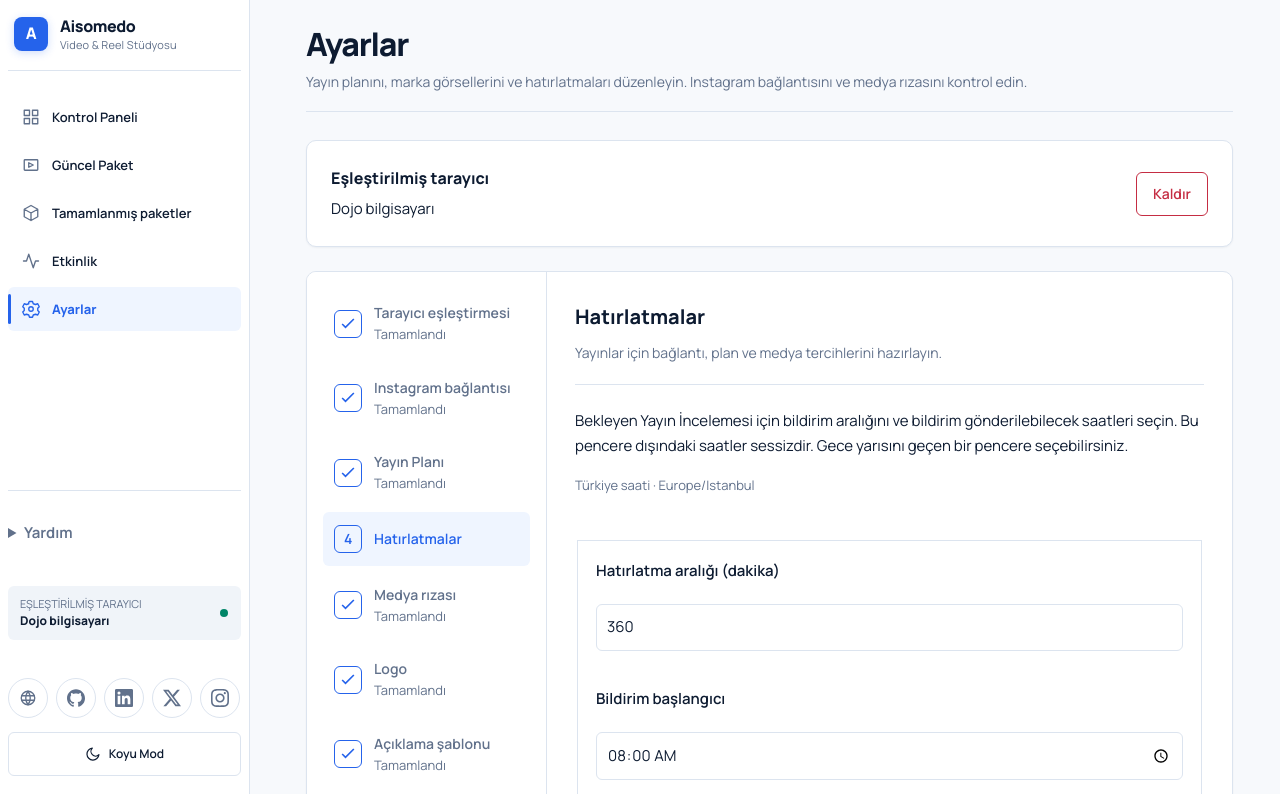
Scenario: replaces settings panels with the embedded setup widget
The image size is (1280, 794).
Expected: the heading "Ayarlar" is shown, [306,22,408,66]
Click the button "Medya rızası Tamamlandı". click: (426,605)
box: [323,570,530,640]
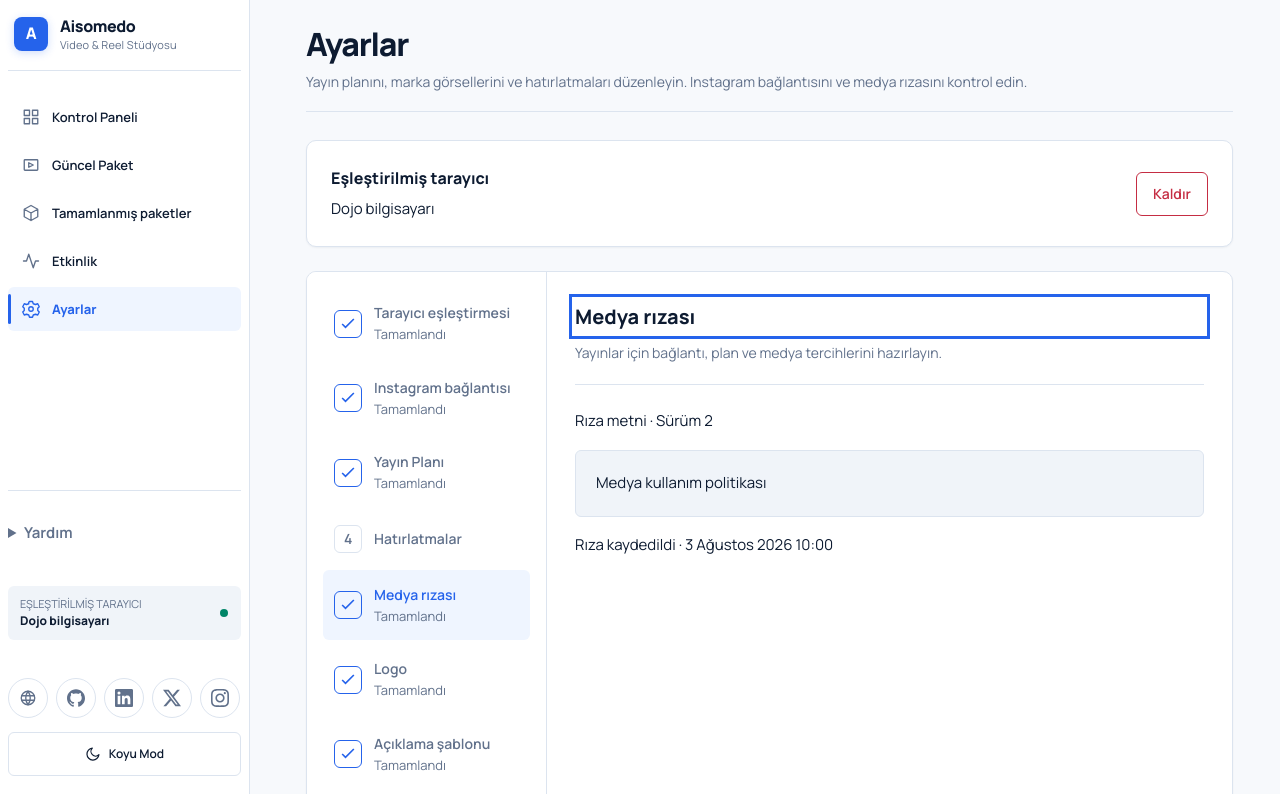
Result: the text "Rıza metni · Sürüm 2" is shown at [575,410,713,431]
